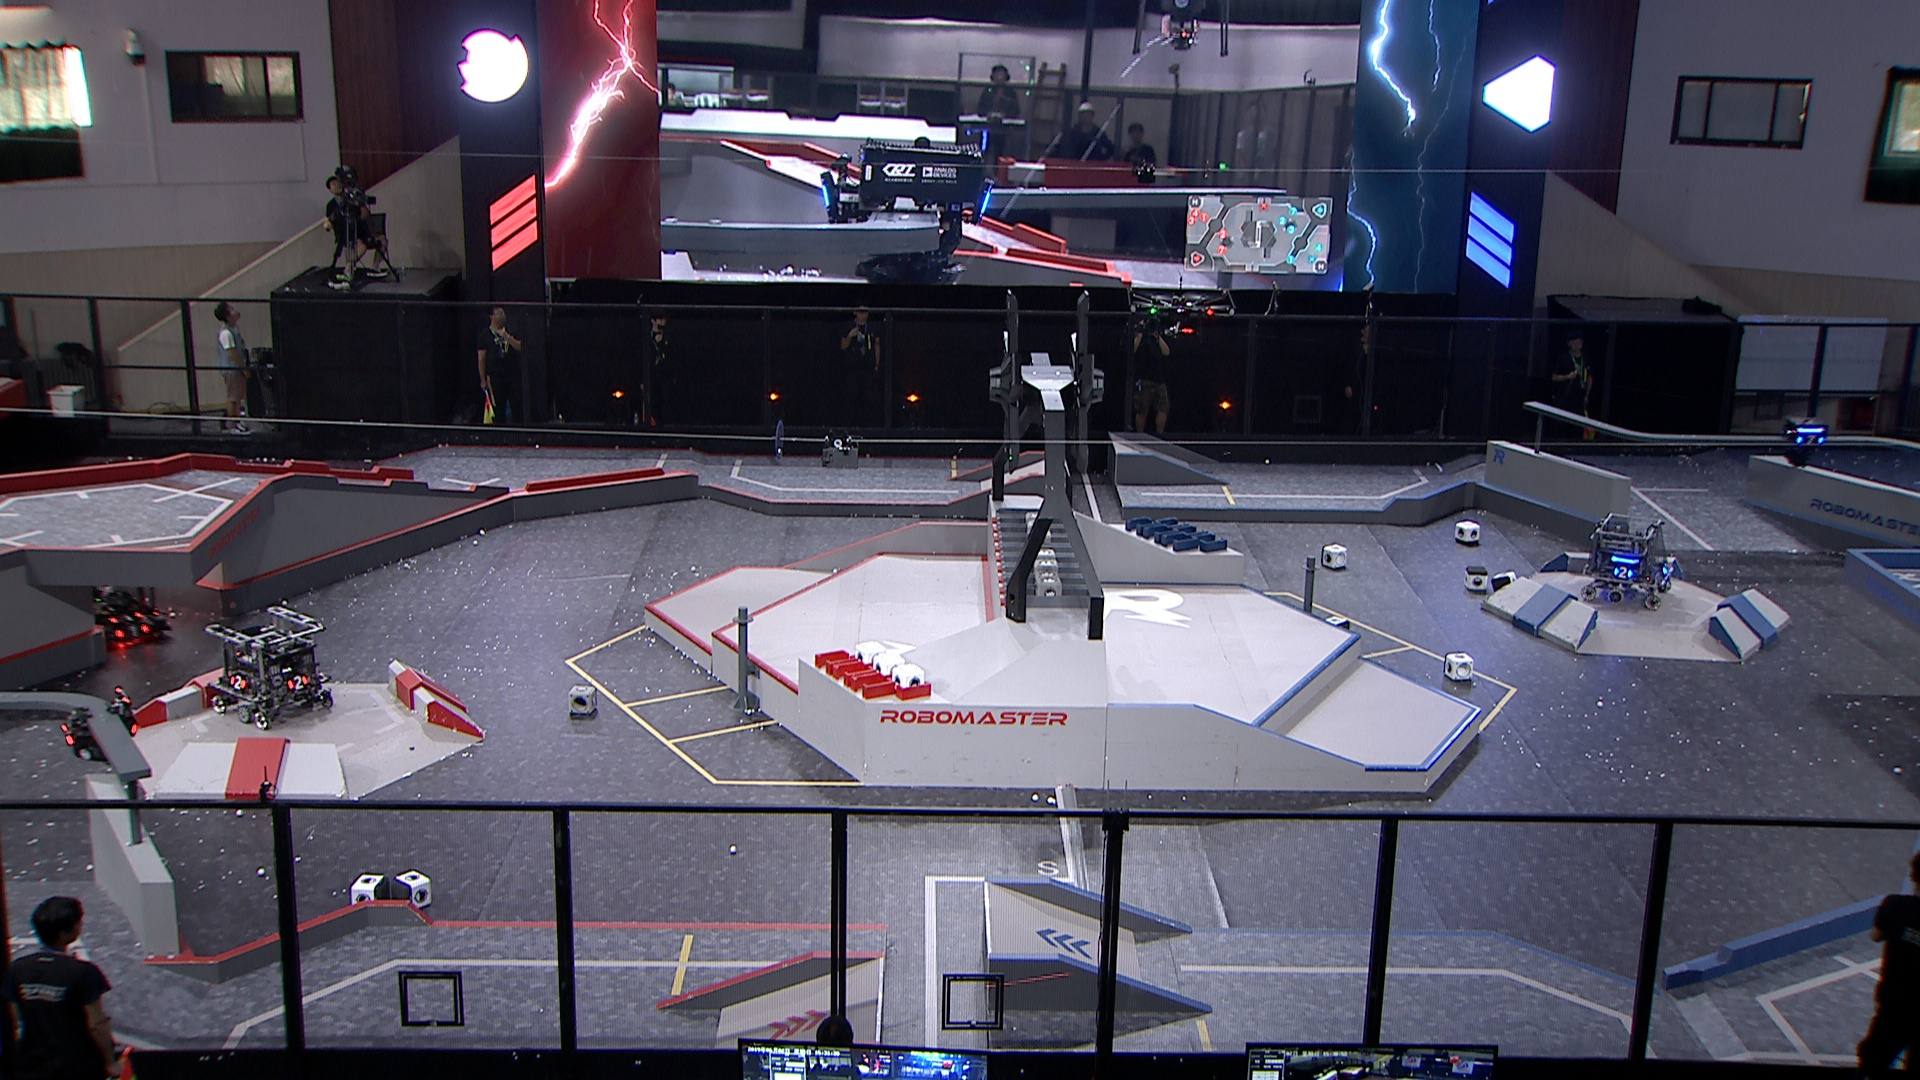armor: (112, 618, 154, 645), (284, 671, 311, 694), (107, 609, 146, 624), (225, 670, 249, 694), (1611, 562, 1636, 584), (1795, 433, 1828, 448), (61, 721, 76, 749), (1660, 560, 1673, 578)
car: (202, 603, 338, 735), (1577, 508, 1677, 611), (74, 564, 169, 654)
ignore: (822, 135, 993, 287)
watcher: (59, 680, 138, 771), (1780, 409, 1832, 473)
